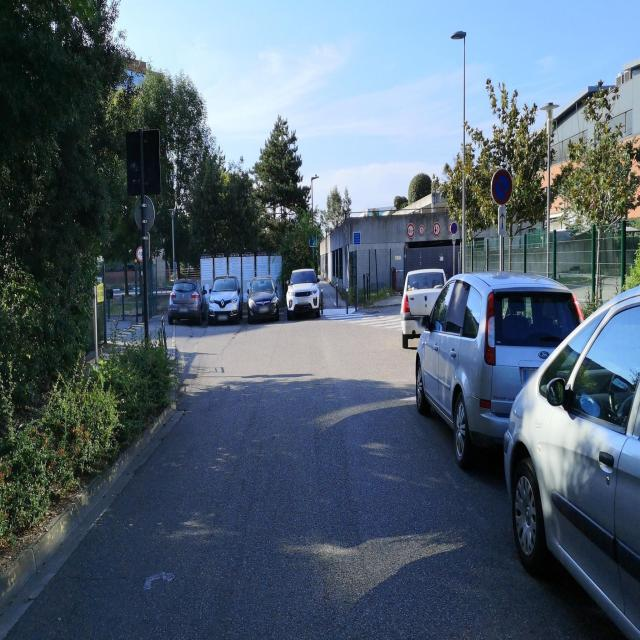forb_stopping: (491, 168, 513, 205), (451, 223, 458, 234)
